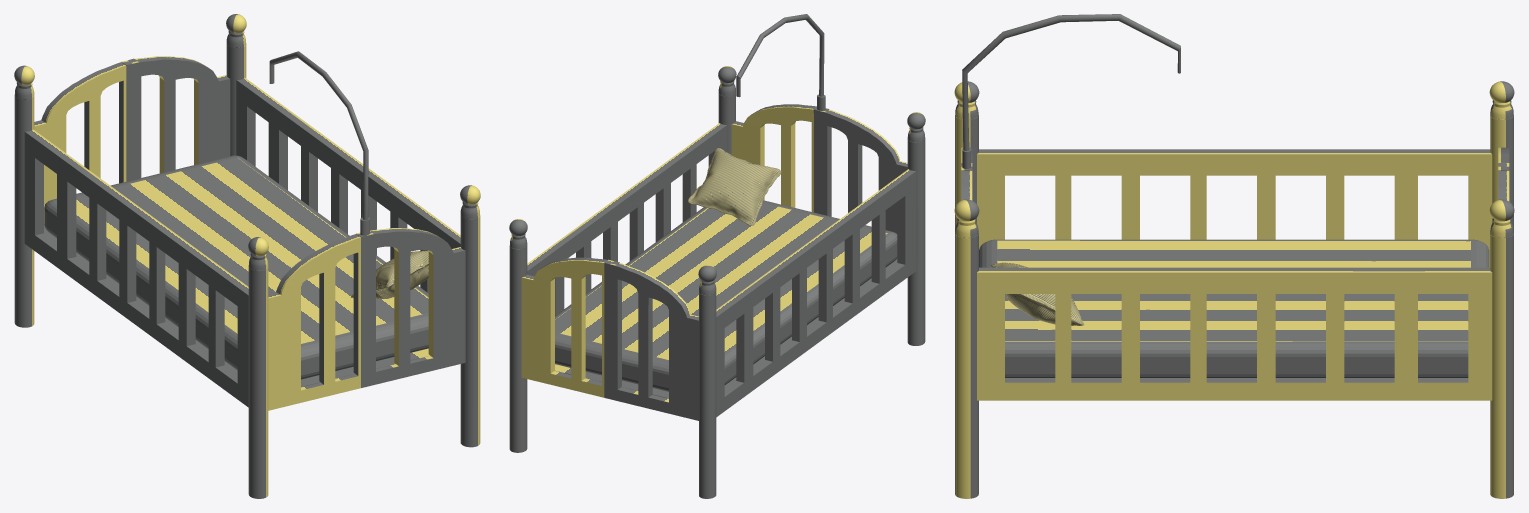
File: Base_Cuna.obj
3 renders of one model, left to right at view 1: azimuth 30°, elevation 25°; view 2: azimuth 150°, elevation 25°; view 3: azimuth 270°, elevation 25°, orthographic. The views are drawn at different scales.
Parts seen in each view (by area): view 1: polySurface142 polySurface153, polySurface152 polySurface142; view 2: polySurface142 polySurface153, polySurface152 polySurface142; view 3: polySurface142 polySurface153, polySurface152 polySurface142.
Boxes of the visible parts, left/top/right/bottom form: polySurface142 polySurface153: left=14, top=14, right=480, bottom=498; polySurface152 polySurface142: left=269, top=51, right=368, bottom=219; polySurface142 polySurface153: left=509, top=66, right=925, bottom=498; polySurface152 polySurface142: left=736, top=14, right=824, bottom=97; polySurface142 polySurface153: left=954, top=81, right=1514, bottom=498; polySurface152 polySurface142: left=962, top=14, right=1180, bottom=150.
Bounding box in the file's own units: 1.7 × 2.61 × 3.14.
Materials: 4 (4 with a texture image).
